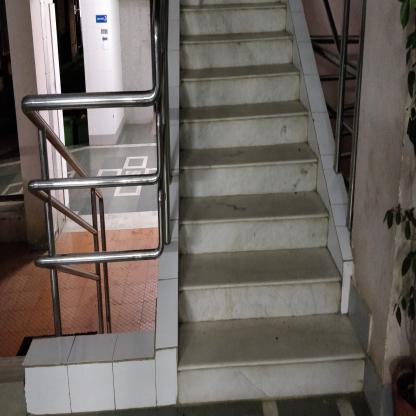stairs: (184, 16, 290, 411)
